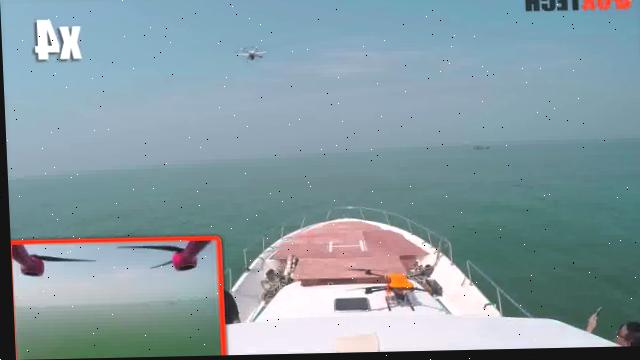drone: (353, 256, 455, 316), (225, 37, 275, 70)
